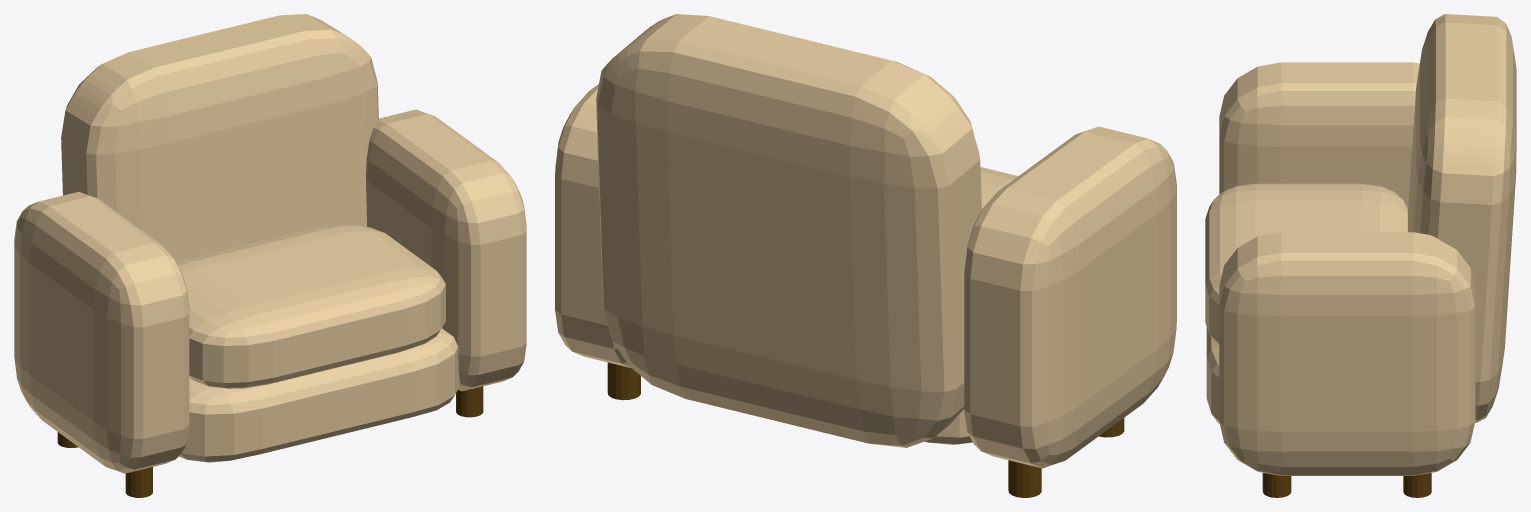
File: Sofa1_ArmChair.fbx
3 renders of one model, left to right at view 1: azimuth 30°, elevation 25°; view 2: azimuth 150°, elevation 25°; view 3: azimuth 270°, elevation 25°, orthographic. The views are drawn at different scales.
Visible parts, largest first — view 1: Sofa1ArmChair, CushionLeft.001; view 2: Sofa1ArmChair, CushionLeft.001; view 3: Sofa1ArmChair, CushionLeft.001.
Part boxes in pixels (bbox=[...]): Sofa1ArmChair: bbox=[14, 14, 526, 497]; CushionLeft.001: bbox=[176, 224, 445, 388]; Sofa1ArmChair: bbox=[555, 14, 1176, 497]; CushionLeft.001: bbox=[980, 167, 1017, 209]; Sofa1ArmChair: bbox=[1206, 14, 1516, 497]; CushionLeft.001: bbox=[1205, 183, 1408, 345].
Bounding box in the file's own units: 455 × 356 × 285.
